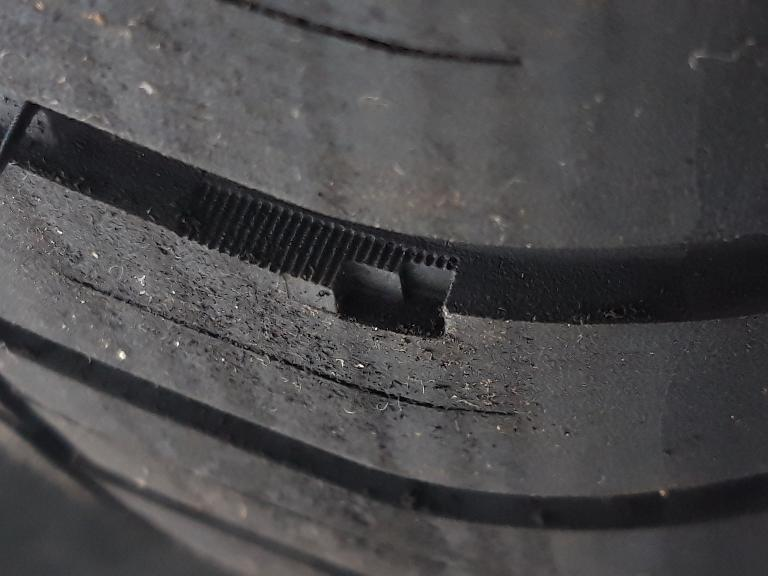temoin:50: (276, 210, 470, 352)
